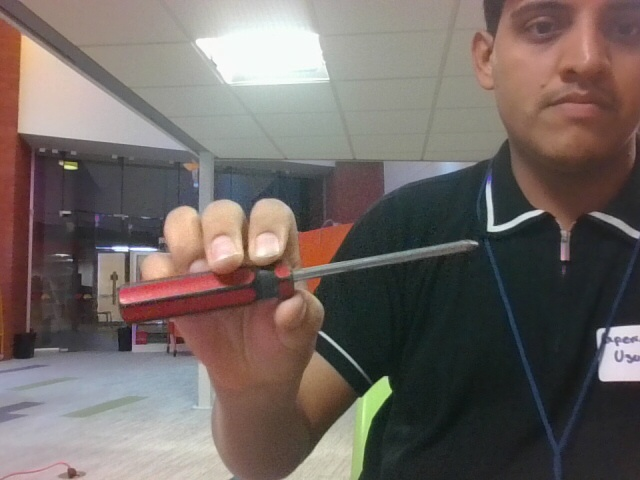destornillador: (118, 242, 474, 324)
